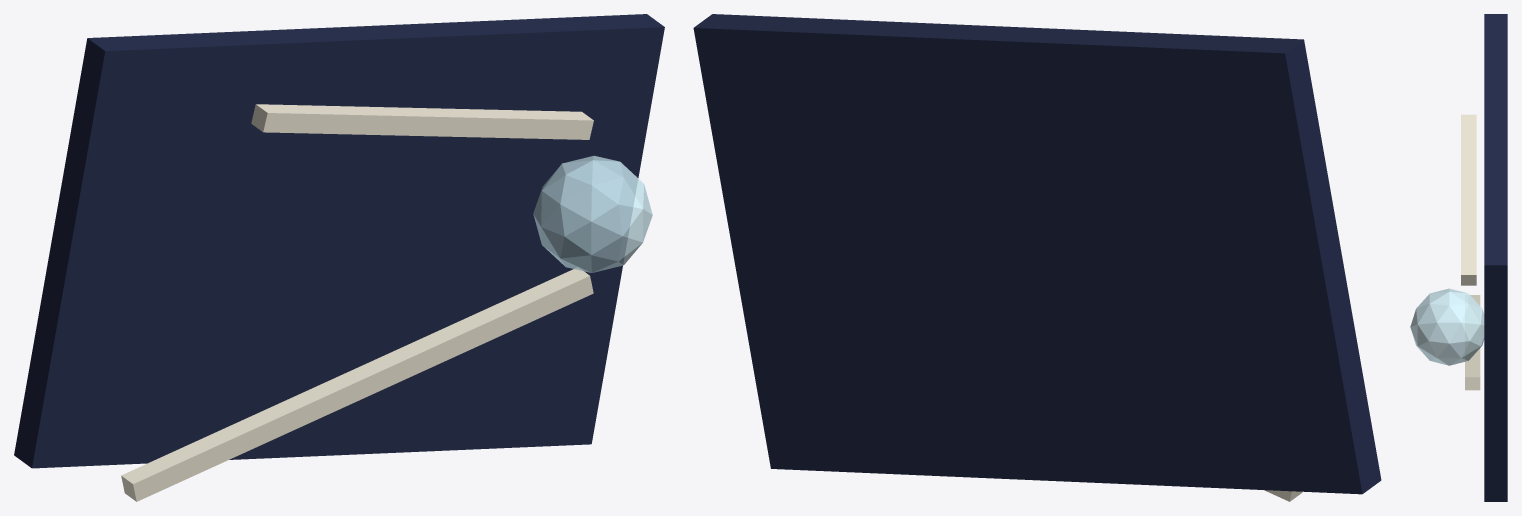
The model's file is 02_world_prop_polish.glb.
3 renders of one model, left to right at view 1: azimuth 30°, elevation 25°; view 2: azimuth 150°, elevation 25°; view 3: azimuth 270°, elevation 25°, orthographic. The views are drawn at different scales.
Visible parts, largest first — view 1: object_overlay_plate, edge_wear_a, glow_socket, edge_wear_b; view 2: object_overlay_plate; view 3: object_overlay_plate, glow_socket, edge_wear_b, edge_wear_a.
Boxes of the visible parts, x1=… form: object_overlay_plate: x1=14, y1=14, x2=664, y2=468; edge_wear_a: x1=121, y1=268, x2=593, y2=501; glow_socket: x1=533, y1=155, x2=652, y2=272; edge_wear_b: x1=251, y1=104, x2=593, y2=139; object_overlay_plate: x1=693, y1=14, x2=1381, y2=494; object_overlay_plate: x1=1484, y1=14, x2=1507, y2=501; glow_socket: x1=1410, y1=288, x2=1484, y2=365; edge_wear_b: x1=1461, y1=114, x2=1476, y2=285; edge_wear_a: x1=1465, y1=295, x2=1480, y2=390.
Size of the model in its own units: 1.22 by 0.944 by 0.25.
